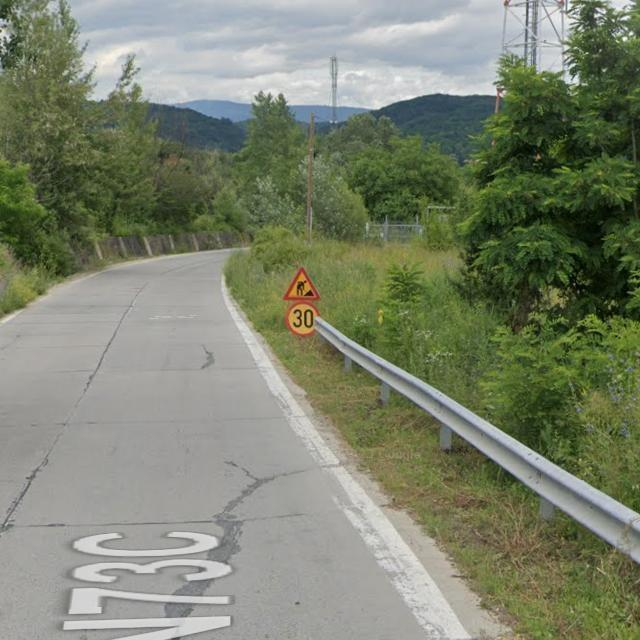forb_speed_over_30: (285, 301, 320, 338)
